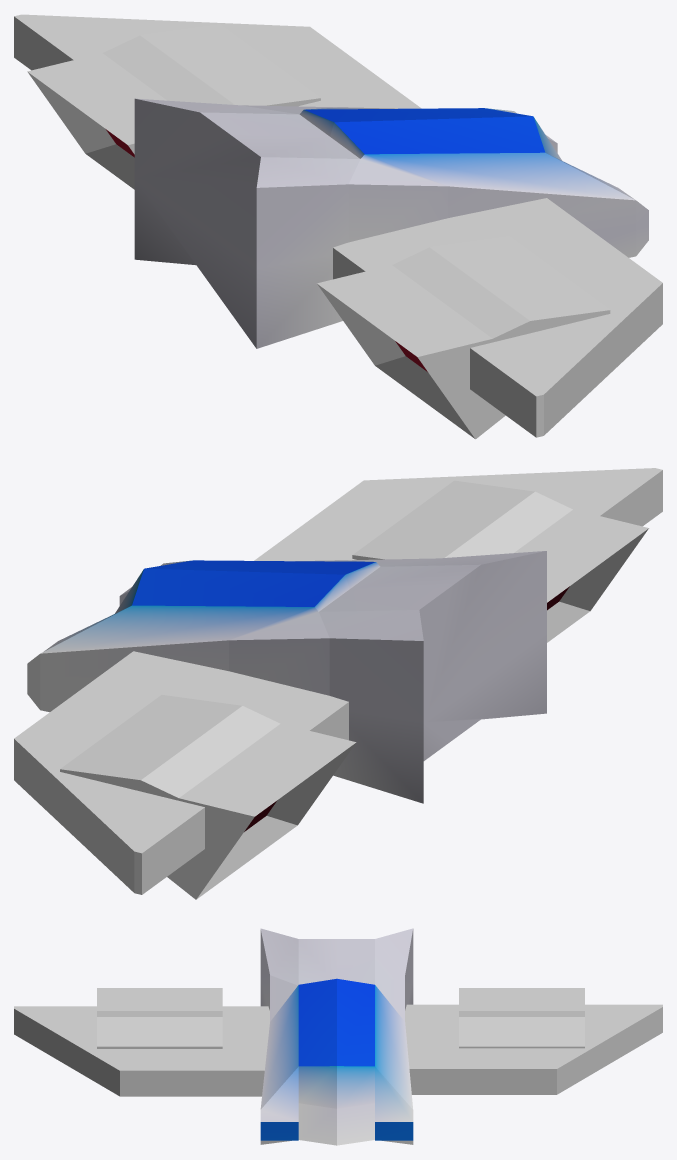
The model's file is testship.fbx.
3 renders of one model, top to bottom at view 1: azimuth 30°, elevation 25°; view 2: azimuth 150°, elevation 25°; view 3: azimuth 270°, elevation 25°, orthographic. The views are drawn at different scales.
Parts seen in each view (by area): view 1: Cube, Cube.004, Cube.001, Cube.006, Cube.003, Cube.002, Cube.005; view 2: Cube, Cube.002, Cube.003, Cube.006, Cube.004, Cube.001, Cube.005; view 3: Cube, Cube.002, Cube.001, Cube.003, Cube.004, Cube.005, Cube.009.
Boxes of the visible parts, box(x1,y1,x2,y2) form: Cube: box(136, 98, 648, 348); Cube.004: box(317, 236, 610, 439); Cube.001: box(333, 198, 662, 437); Cube.006: box(134, 98, 260, 348); Cube.003: box(27, 24, 320, 189); Cube.002: box(14, 14, 421, 108); Cube.005: box(304, 108, 544, 154); Cube: box(27, 551, 544, 803); Cube.002: box(14, 651, 348, 894); Cube.003: box(60, 694, 356, 899); Cube.006: box(419, 551, 546, 760); Cube.004: box(352, 480, 648, 642); Cube.001: box(254, 468, 662, 561); Cube.005: box(132, 560, 375, 606); Cube: box(260, 928, 413, 1145); Cube.002: box(405, 1004, 662, 1094); Cube.001: box(14, 1006, 269, 1096); Cube.003: box(459, 988, 584, 1048); Cube.004: box(97, 988, 222, 1048); Cube.005: box(298, 978, 374, 1066); Cube.009: box(260, 1122, 413, 1140).
Bounding box in the file's own units: 377 × 160 × 850.
